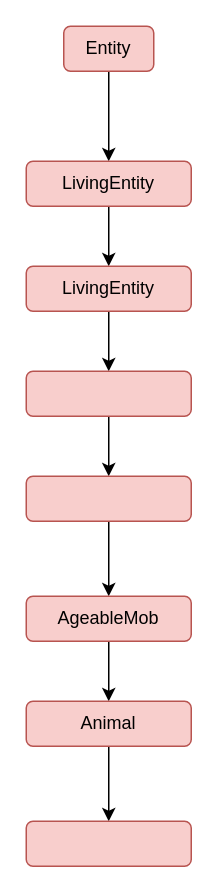
Image size: 218x893. Some labels were removed from this diagram. The shapes that lost their labels are listed below. From the top down, each one's box as (x1, y1, x2, y2) in pixels, then its label:
(25, 370, 191, 416): Mob
(25, 475, 191, 521): PathfinderMob
(25, 820, 191, 866): Cow
